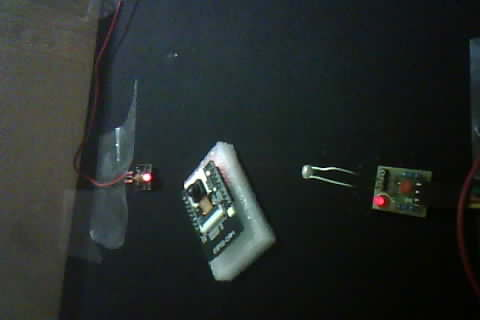esp32: (180, 141, 280, 283)
